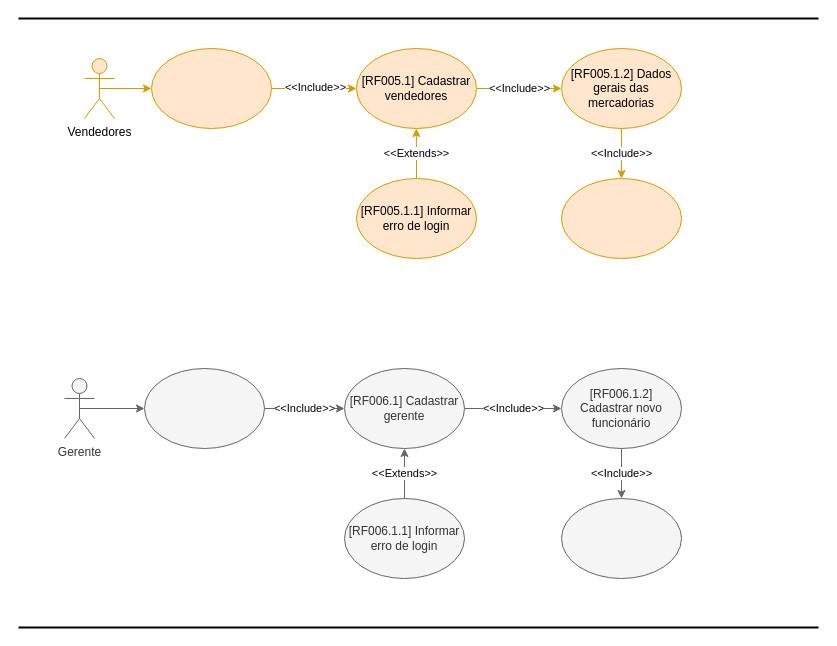
This 837x646 diagram has some shape labels left out. Each missing label, with the centre of its shape:
"[RF005.1.2.1] Alterar quantia de produtos" goes at point 621,218.
"[RF005] Registrar saída de vendas" goes at point 211,88.
"[RF006.1.2.1] Informar os dados do novo funcionário" goes at point 621,538.
"[RF006] Cadastrar Novo Funcionario" goes at point 204,408.
